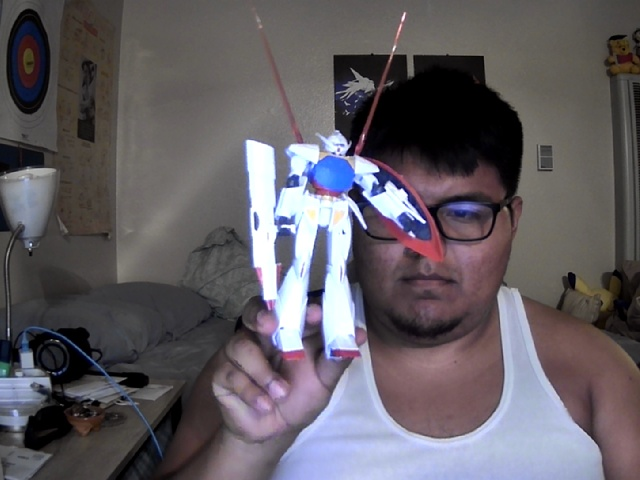Turn-A: (245, 132, 443, 365)
